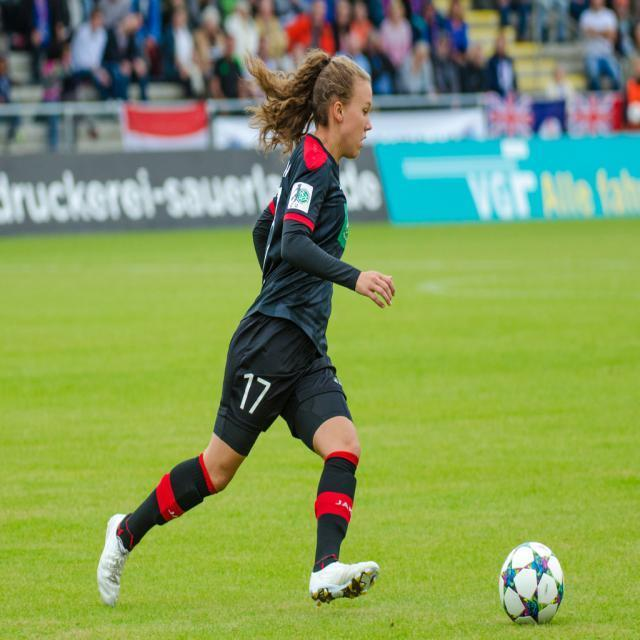football: (482, 531, 590, 628)
